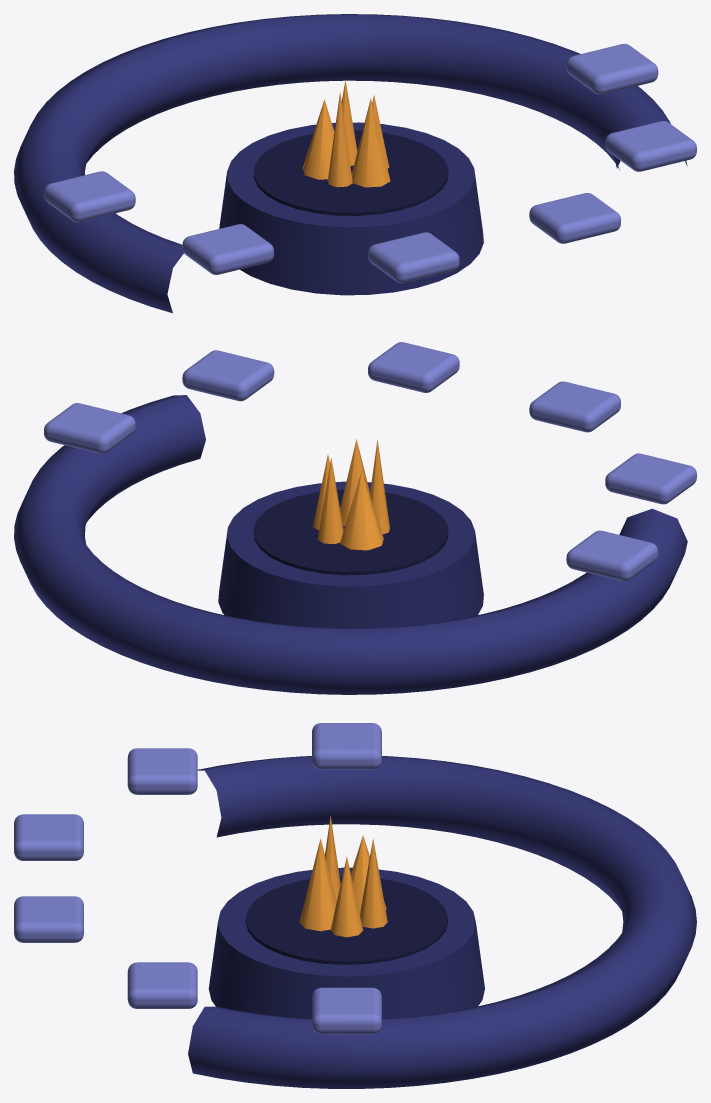
Rendered from firePit.glb.
3 renders of one model, top to bottom at view 1: azimuth 30°, elevation 25°; view 2: azimuth 150°, elevation 25°; view 3: azimuth 270°, elevation 25°, orthographic. The views are drawn at different scales.
Parts seen in each view (by area): view 1: bench, bowl, coals, pillow5, pillow0, pillow1, pillow2, pillow3, pillow4, flame1, flame3, flame2 (+1 smaller); view 2: bench, bowl, coals, pillow1, pillow0, pillow4, pillow2, pillow3, pillow5, flame3, flame4, flame2 (+1 smaller); view 3: bench, bowl, coals, pillow5, pillow1, pillow4, pillow2, pillow0, pillow3, flame1, flame0, flame4 (+2 smaller).
Boxes of the visible parts, x1,y1,x2,y2 form: bench: (14,14,687,313); bowl: (219,122,483,295); coals: (253,130,448,215); pillow5: (566,43,658,94); pillow0: (44,171,135,222); pillow1: (182,224,274,274); pillow2: (368,232,459,283); pillow3: (529,193,620,243); pillow4: (605,121,696,171); flame1: (351,98,390,187); flame3: (302,99,334,179); flame2: (327,92,352,187); bench: (14,395,687,694); bowl: (218,481,483,628); coals: (253,490,448,575); pillow1: (605,453,696,504); pillow0: (566,530,658,581); pillow4: (182,350,274,401); pillow2: (529,381,620,432); pillow3: (368,342,459,392); pillow5: (44,403,135,453); flame3: (340,470,383,550); flame4: (317,458,343,544); flame2: (370,439,389,534); bench: (188,756,696,1088); bowl: (208,867,484,1018); coals: (245,876,448,964); pillow5: (312,987,381,1034); pillow1: (127,748,197,794); pillow4: (127,962,197,1008); pillow2: (14,814,83,860); pillow0: (312,723,381,769); pillow3: (14,896,83,942); flame1: (299,839,336,931); flame0: (330,856,363,937); flame4: (360,838,387,928).
Bounding box in the file's own units: 3.82 × 0.985 × 3.71.
